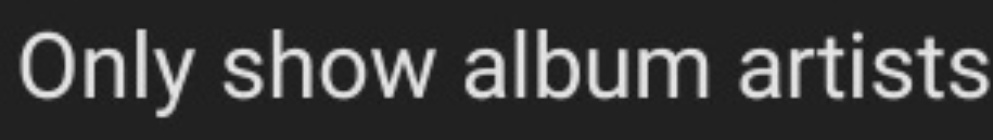TextView: (1, 1, 992, 139)
